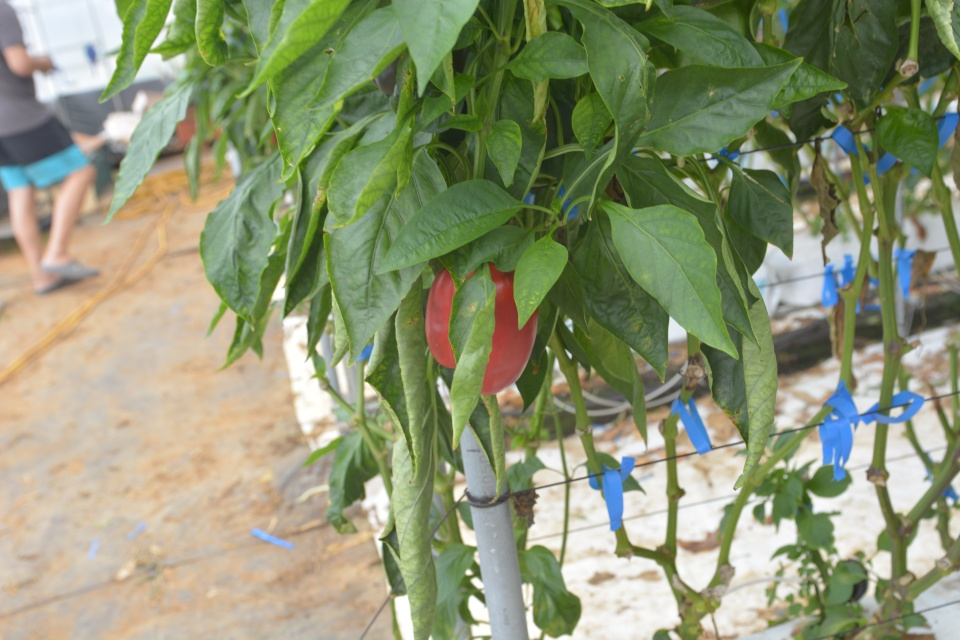fruit: (423, 261, 538, 392)
